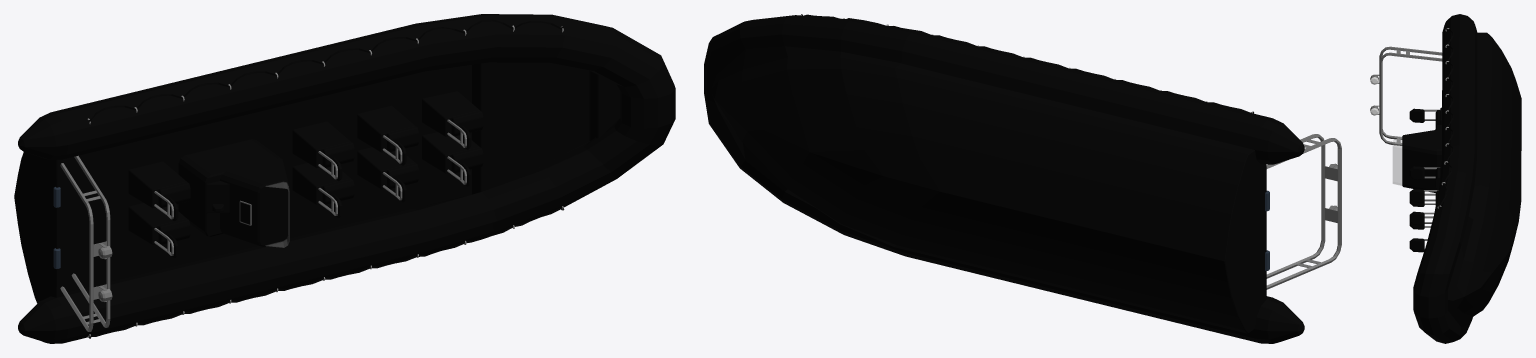
Rendered from MilitaryBoatNoMovables.glb.
3 views of the same model, side by side, from view 1: azimuth 30°, elevation 25°; view 2: azimuth 150°, elevation 25°; view 3: azimuth 270°, elevation 25° (orthographic). The views are drawn at different scales.
Visible parts, largest first — view 1: MilitaryBoatNoMovables; view 2: MilitaryBoatNoMovables; view 3: MilitaryBoatNoMovables.
Part boxes in pixels (x1=…): MilitaryBoatNoMovables: x1=14, y1=14, x2=675, y2=343; MilitaryBoatNoMovables: x1=704, y1=14, x2=1341, y2=343; MilitaryBoatNoMovables: x1=1370, y1=14, x2=1521, y2=343.
Size of the model in its own units: 10.82 by 3.72 by 3.11.
2 materials, 2 textured.
